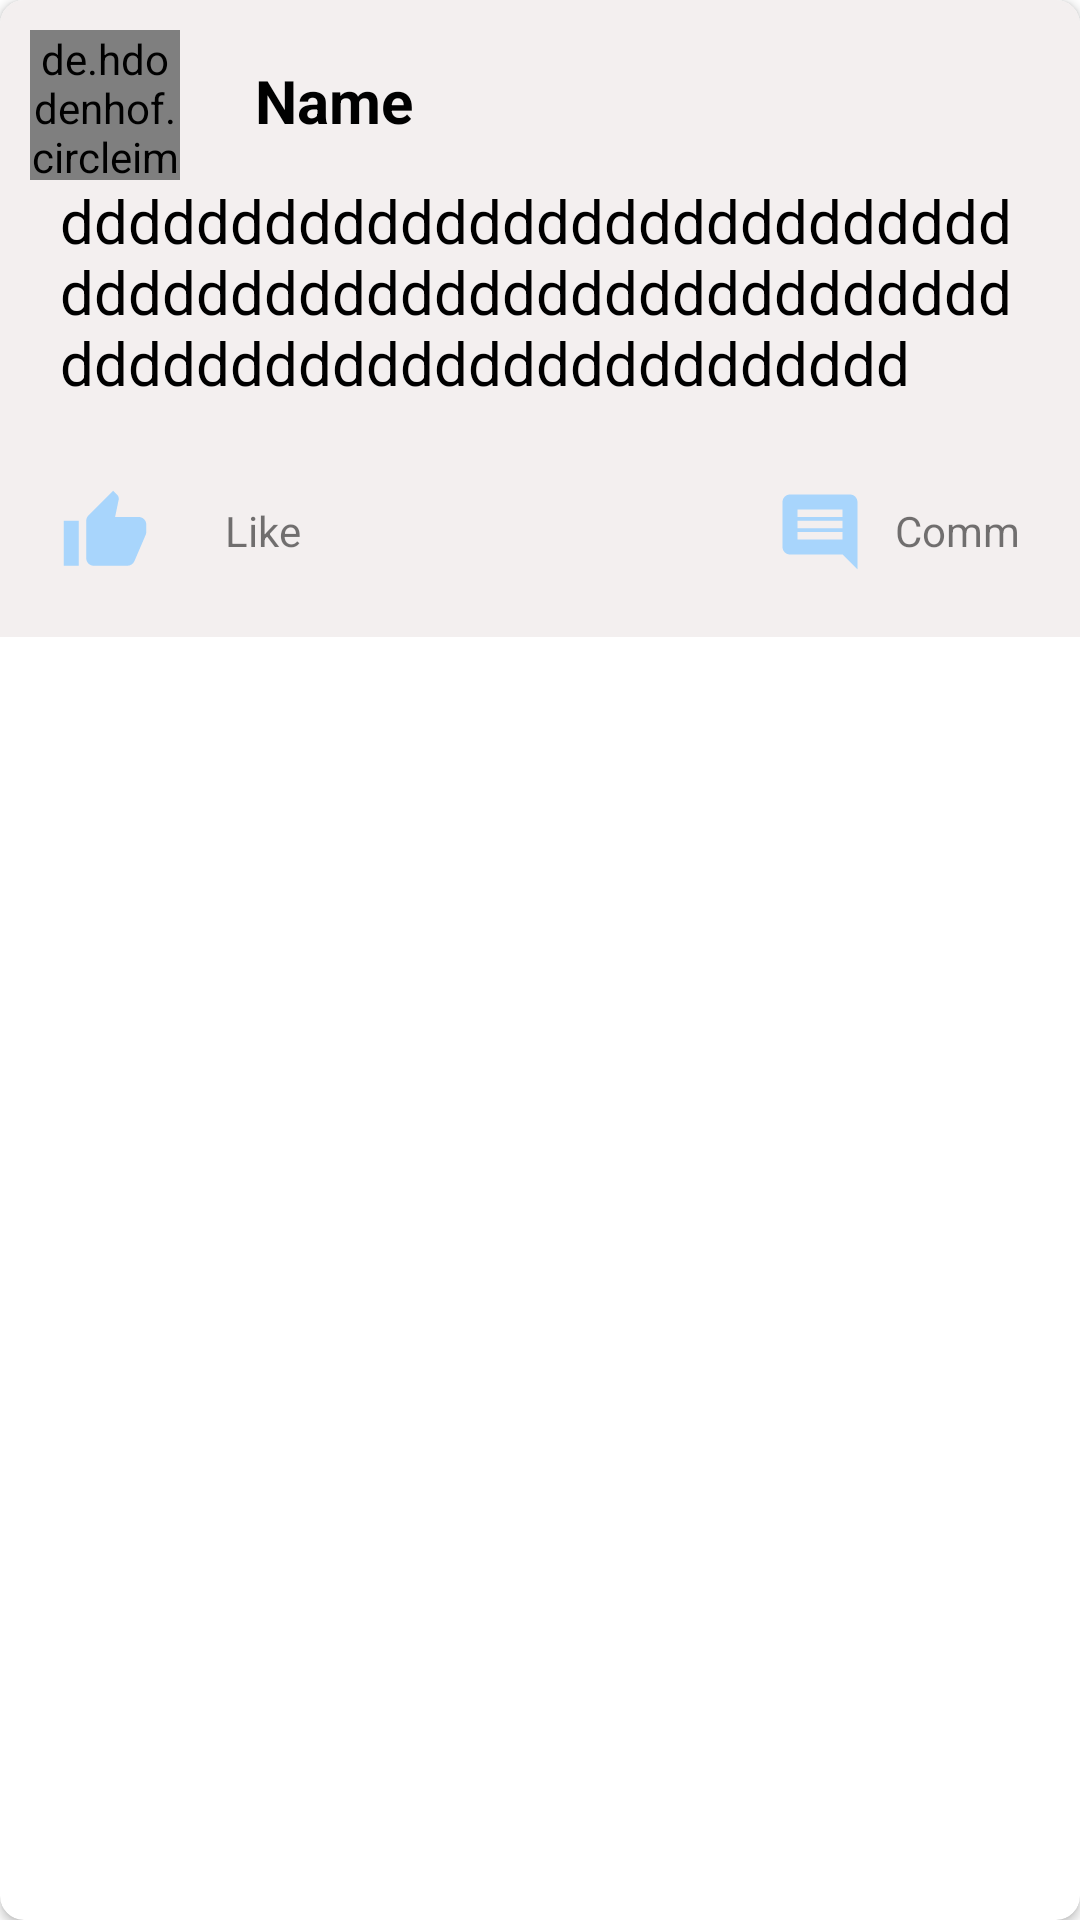

Screen size 1080px x 1920px. Icon name, then its box in pixels as (x1, y1, x2, y2):
thumb up: (64, 491, 146, 566)
